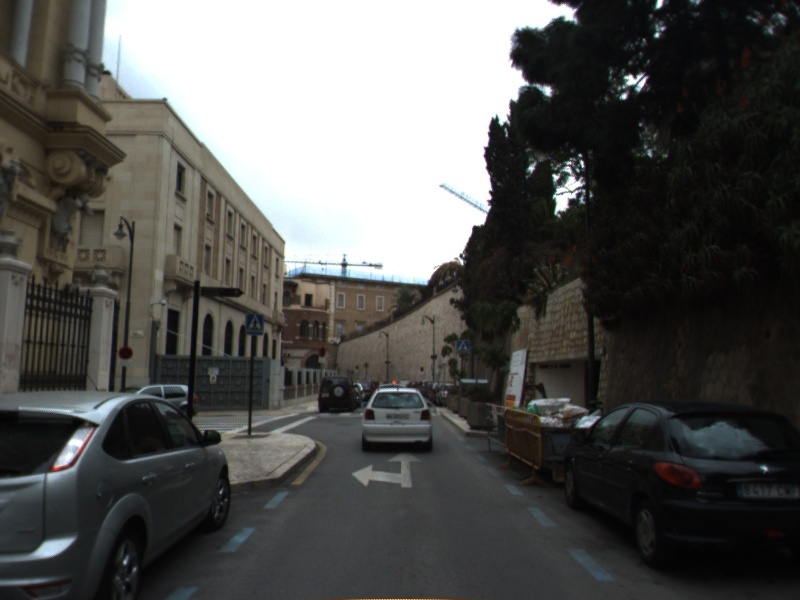STRAIGHT_LEFT: (349, 448, 426, 489)
